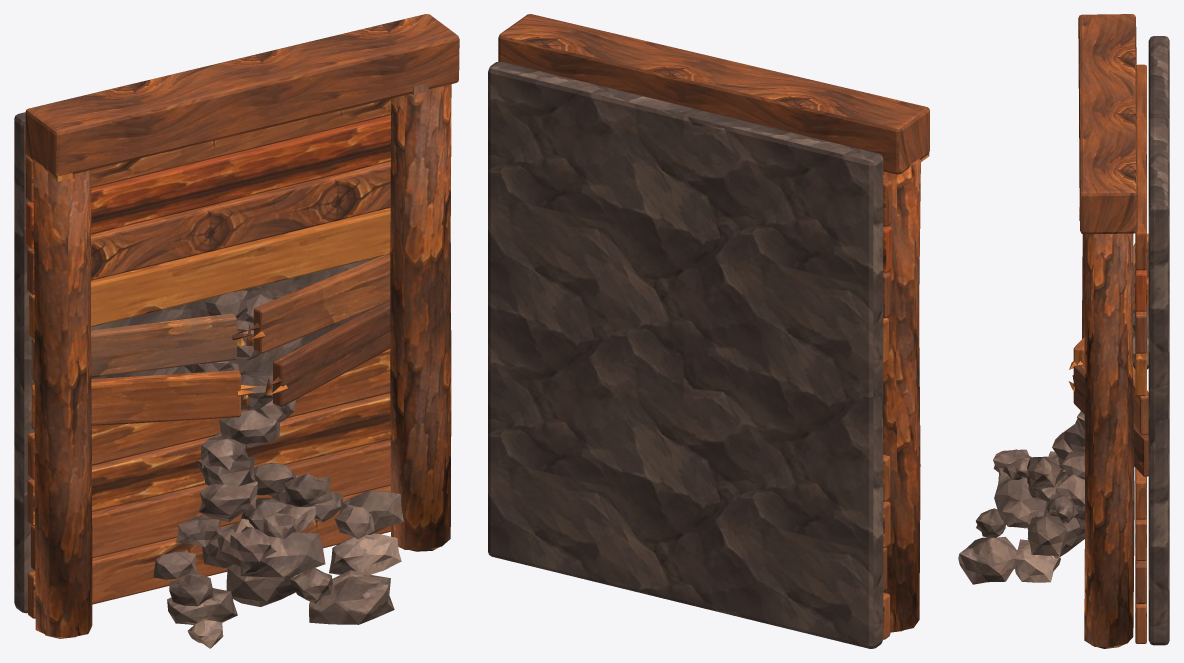
Rendered from mp_lagging_burst.glb.
3 renders of one model, left to right at view 1: azimuth 30°, elevation 25°; view 2: azimuth 150°, elevation 25°; view 3: azimuth 270°, elevation 25°, orthographic. The views are drawn at different scales.
Visible parts, largest first — view 1: model; view 2: model; view 3: model.
Part boxes in pixels (<box>): model: <box>14,14,459,648</box>; model: <box>488,14,929,648</box>; model: <box>958,14,1169,648</box>.
Size of the model in its own units: 1.61 by 1.94 by 0.8057.
16 materials, 16 textured.
